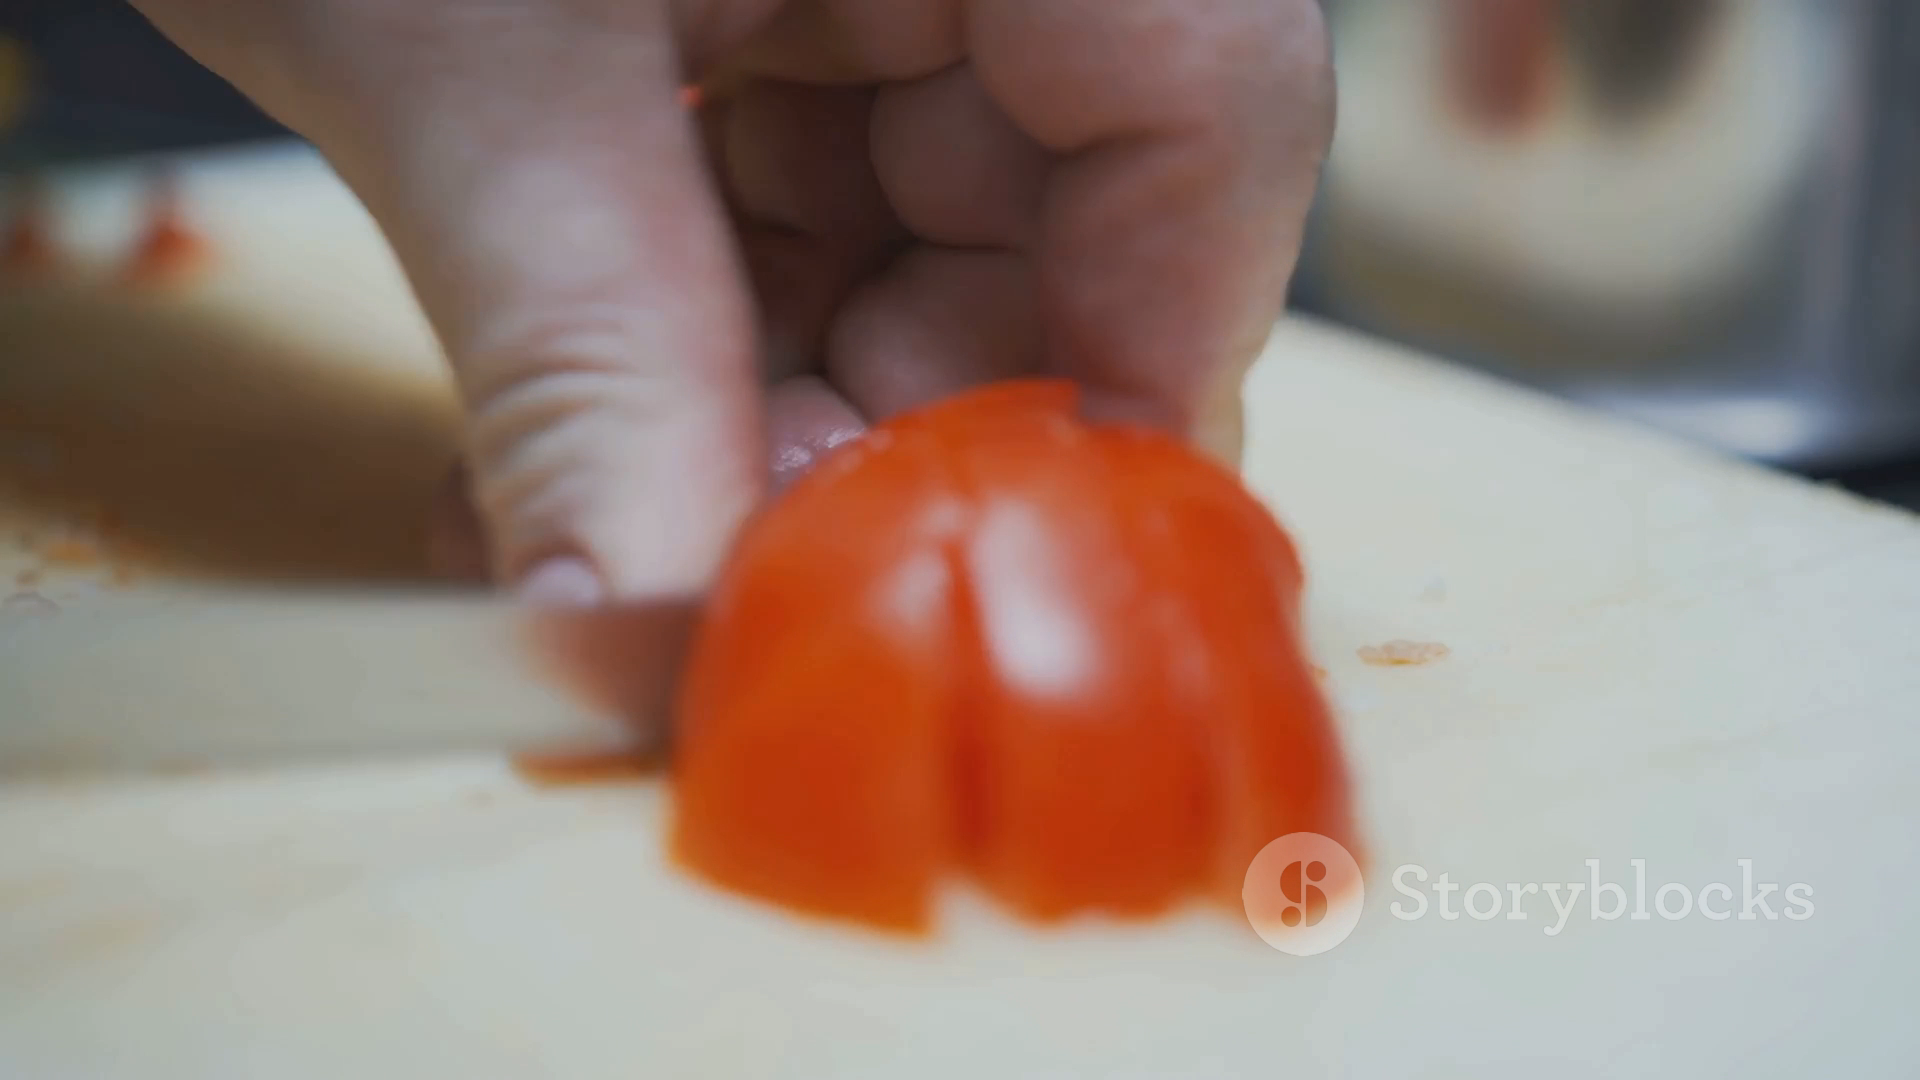cortante: (0, 583, 749, 799)
